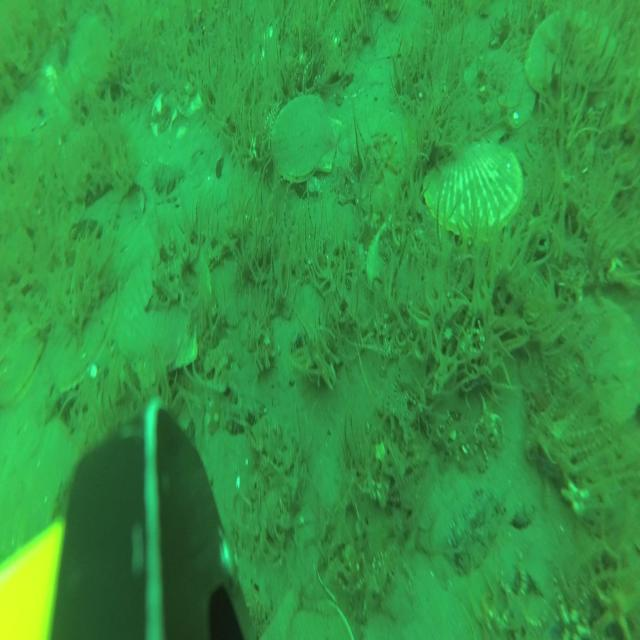scallop: (116, 245, 212, 385), (567, 295, 640, 427), (424, 142, 525, 229), (524, 14, 617, 101), (271, 90, 343, 180)
